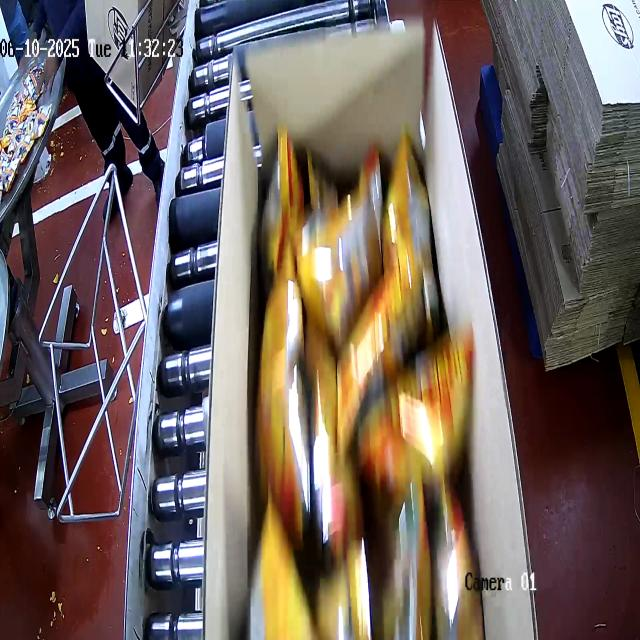FRENCH_CHEESE: (260, 124, 485, 640)
